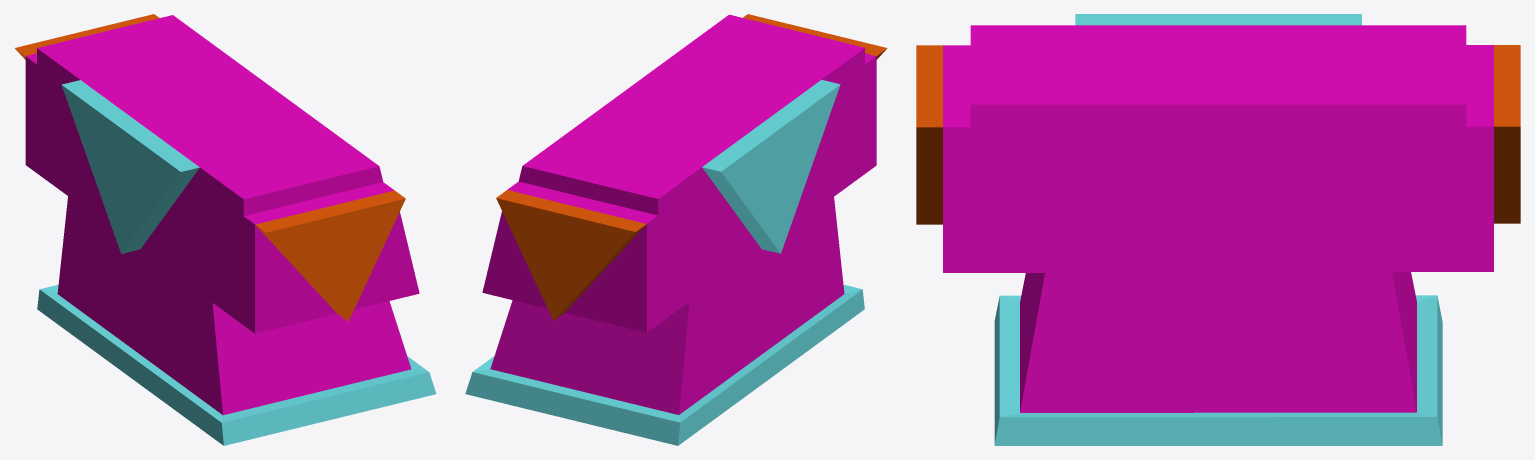
File: fbx_torso_80s.fbx
3 views of the same model, side by side, from view 1: azimuth 30°, elevation 25°; view 2: azimuth 150°, elevation 25°; view 3: azimuth 270°, elevation 25° (orthographic). The views are drawn at different scales.
Visible parts, largest first — view 1: sm_shirt_80s; view 2: sm_shirt_80s; view 3: sm_shirt_80s.
Boxes of the visible parts, left/top/right/bottom form: sm_shirt_80s: left=15, top=14, right=436, bottom=445; sm_shirt_80s: left=465, top=14, right=887, bottom=445; sm_shirt_80s: left=916, top=14, right=1520, bottom=445.
Size of the model in its own units: 23.2 by 25.12 by 45.55.
